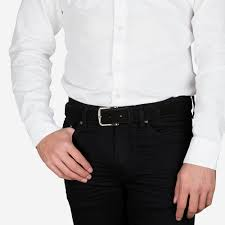F_belt: (62, 94, 193, 131)
F_shirt: (22, 1, 223, 167)
